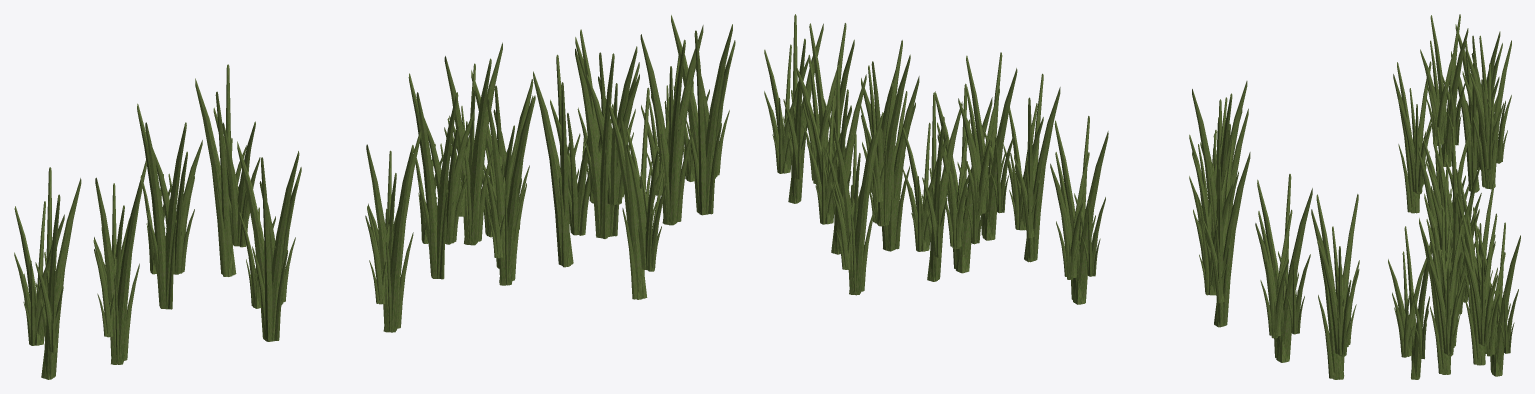
The model's file is GrassPatch(3).obj.
3 renders of one model, left to right at view 1: azimuth 30°, elevation 25°; view 2: azimuth 150°, elevation 25°; view 3: azimuth 270°, elevation 25°, orthographic. The views are drawn at different scales.
Visible parts, largest first — view 1: GrassPatch(3); view 2: GrassPatch(3); view 3: GrassPatch(3).
Part boxes in pixels (x1,y1,x2,y2): GrassPatch(3): [14, 15, 735, 379]; GrassPatch(3): [764, 14, 1359, 379]; GrassPatch(3): [1388, 14, 1520, 379].
Bounding box in the file's own units: 14.66 × 6.14 × 3.36.
1 material, 1 textured.
